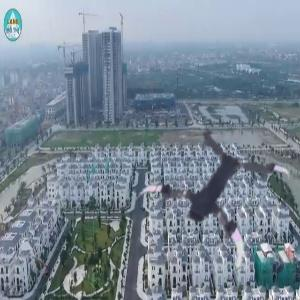drone: (137, 129, 282, 274)
